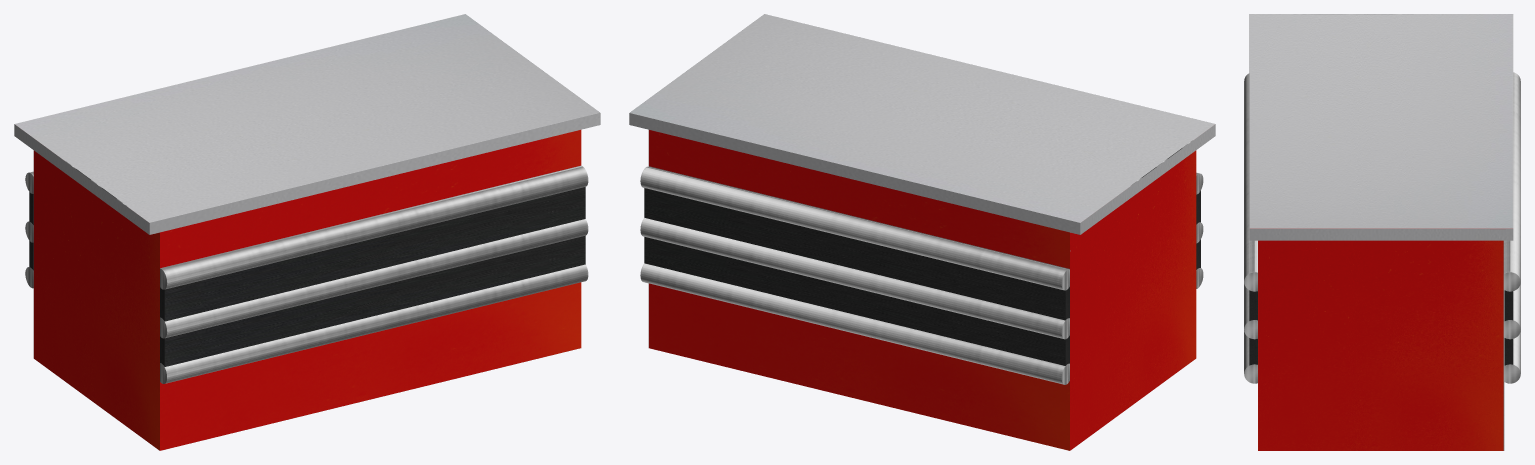
File: 50's Dinner Bar.fbx
3 renders of one model, left to right at view 1: azimuth 30°, elevation 25°; view 2: azimuth 150°, elevation 25°; view 3: azimuth 270°, elevation 25°, orthographic. The views are drawn at different scales.
Parts seen in each view (by area): view 1: Cube, Cube.001, Cube.002, Cylinder, Cylinder.002, Cylinder.001; view 2: Cube, Cube.004, Cube.003, Cylinder.005, Cylinder.003, Cylinder.004; view 3: Cube, Cylinder.005, Cylinder, Cylinder.004, Cylinder.003, Cylinder.001, Cylinder.002, Cube.004.
Boxes of the visible parts, left/top/right/bottom form: Cube: left=14, top=14, right=600, bottom=450; Cube.001: left=160, top=187, right=585, bottom=321; Cube.002: left=160, top=235, right=585, bottom=366; Cylinder: left=160, top=165, right=588, bottom=289; Cylinder.002: left=160, top=264, right=588, bottom=383; Cylinder.001: left=160, top=219, right=588, bottom=338; Cube: left=629, top=14, right=1215, bottom=450; Cube.004: left=644, top=188, right=1069, bottom=320; Cube.003: left=644, top=237, right=1069, bottom=365; Cylinder.005: left=640, top=166, right=1069, bottom=290; Cylinder.003: left=640, top=263, right=1069, bottom=384; Cylinder.004: left=640, top=218, right=1069, bottom=339; Cube: left=1249, top=14, right=1513, bottom=450; Cylinder.005: left=1503, top=72, right=1520, bottom=291; Cylinder: left=1244, top=73, right=1257, bottom=291; Cylinder.004: left=1503, top=282, right=1520, bottom=339; Cylinder.003: left=1503, top=330, right=1520, bottom=383; Cylinder.001: left=1244, top=282, right=1257, bottom=339; Cylinder.002: left=1244, top=330, right=1257, bottom=383; Cube.004: left=1504, top=290, right=1513, bottom=320.
Size of the model in its own units: 581 by 289 by 316.
